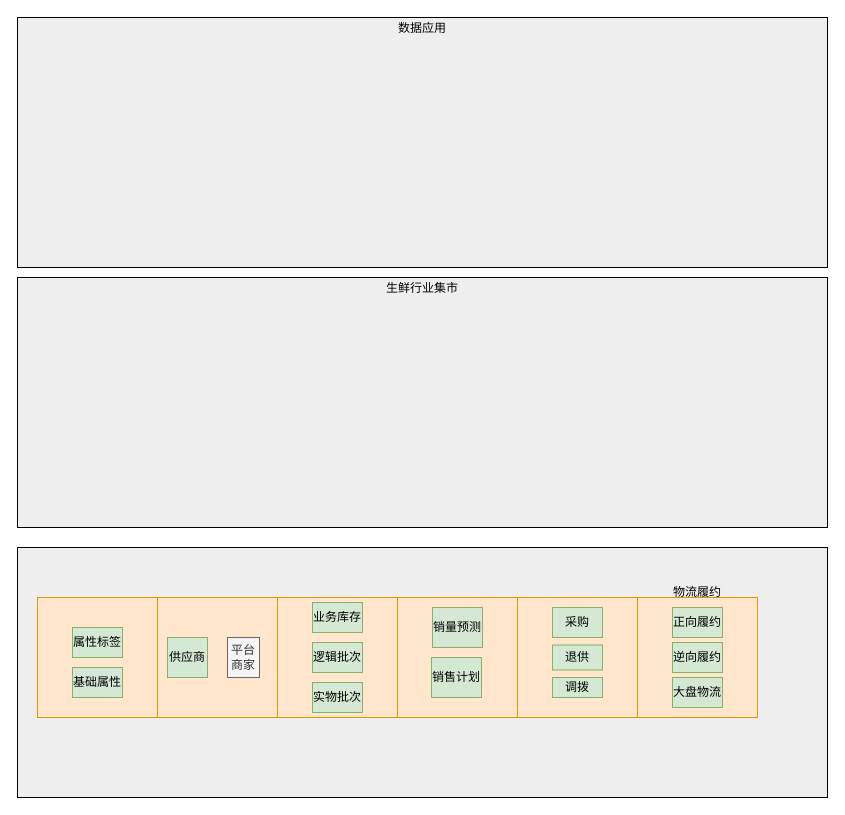
Image size: 845x815. Some labels were removed from this diagram. The shapes that lost their labels are listed below. From the top down, each one's box as (x1, y1, x2, y2) in pixels, then its label:
(36, 596, 158, 718): 货品
(156, 596, 278, 718): 商家
(276, 596, 398, 718): 库存
(16, 546, 828, 798): 中台中间层
(396, 596, 518, 718): 计划
(516, 596, 638, 718): 执行
